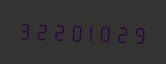nine: (129, 21, 144, 46)
one: (81, 19, 96, 44)
three: (17, 17, 32, 42)
two: (49, 18, 64, 43), (33, 18, 48, 42), (113, 21, 128, 45)
zero: (97, 20, 112, 45), (65, 19, 80, 43)
